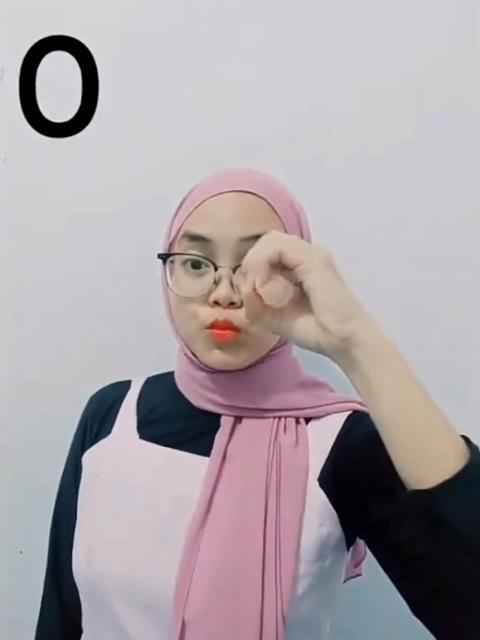O: (231, 224, 371, 364)
